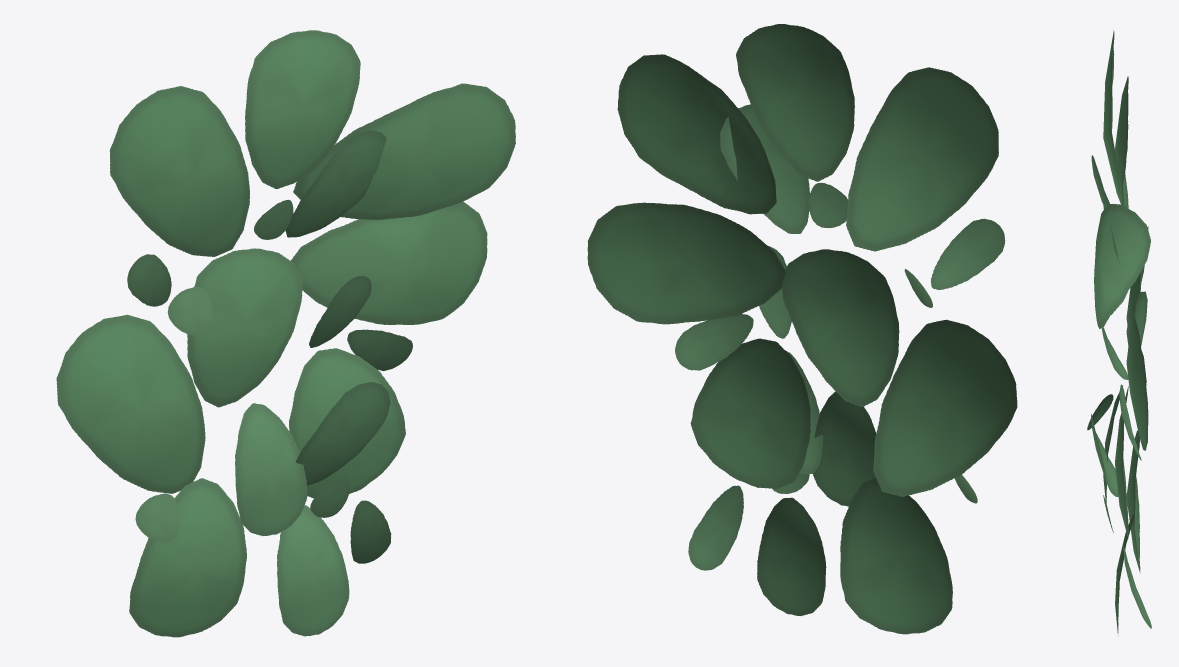
The model's file is Ama_plante_sanctu2.fbx.
3 renders of one model, left to right at view 1: azimuth 30°, elevation 25°; view 2: azimuth 150°, elevation 25°; view 3: azimuth 270°, elevation 25°, orthographic. The views are drawn at different scales.
Parts seen in each view (by area): view 1: Ama_plante_sanctu2; view 2: Ama_plante_sanctu2; view 3: Ama_plante_sanctu2.
Part boxes in pixels (bbox=[...]): Ama_plante_sanctu2: bbox=[56, 30, 515, 637]; Ama_plante_sanctu2: bbox=[587, 24, 1017, 634]; Ama_plante_sanctu2: bbox=[1087, 30, 1151, 635].
Bounding box in the file's own units: 6.87 × 8.51 × 1.16.
1 material, 1 textured.
